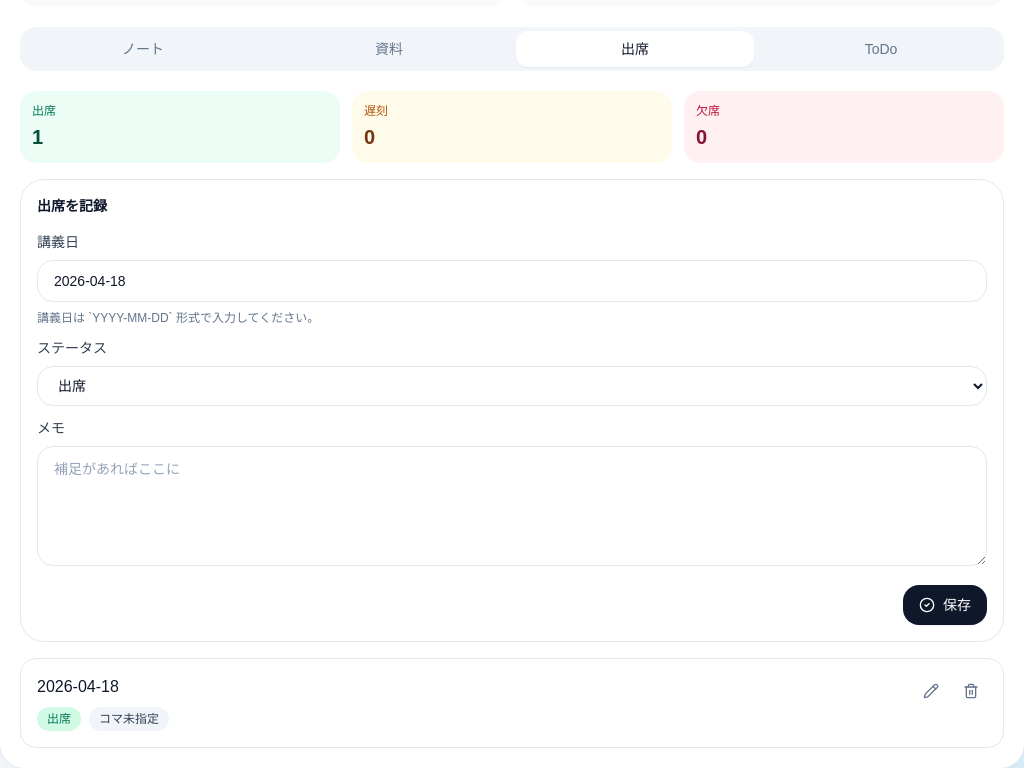
SubjectDetailPanel › resets the attendance form when the edited record disappears from the list
(page scrolled)
Step 1. Click the button named "出席を編集" → click(931, 691), box [915,675,947,707]
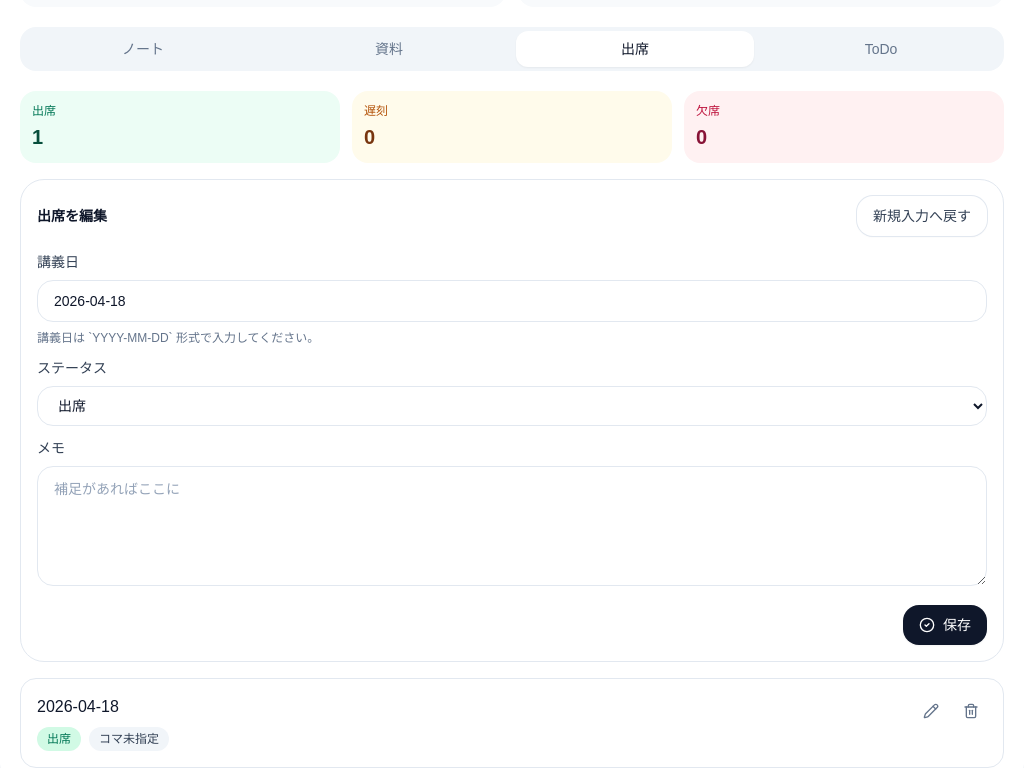
expect the button "新規入力へ戻す" is shown: met, box [857,196,987,236]
